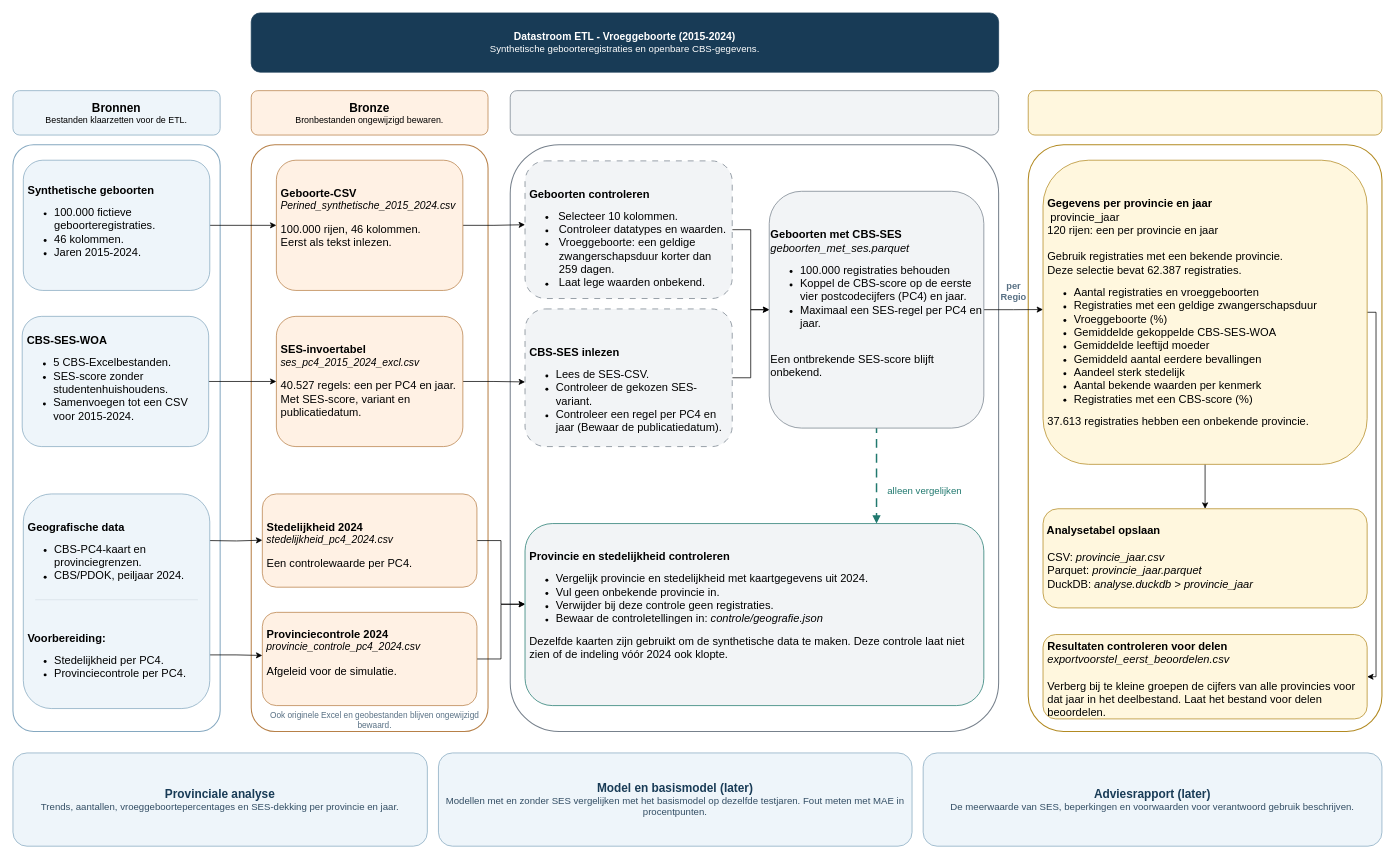
The diagram is 1396 pixels wide and 859 high, and some of its shapes have lost their labels. The centre of each missing label's shape, as x and y in pixels:
"Gold Samenvatten per provincie en jaar." belongs at point 1204,112.
"Silver Gegevens controleren en koppelen." belongs at point 754,112.
